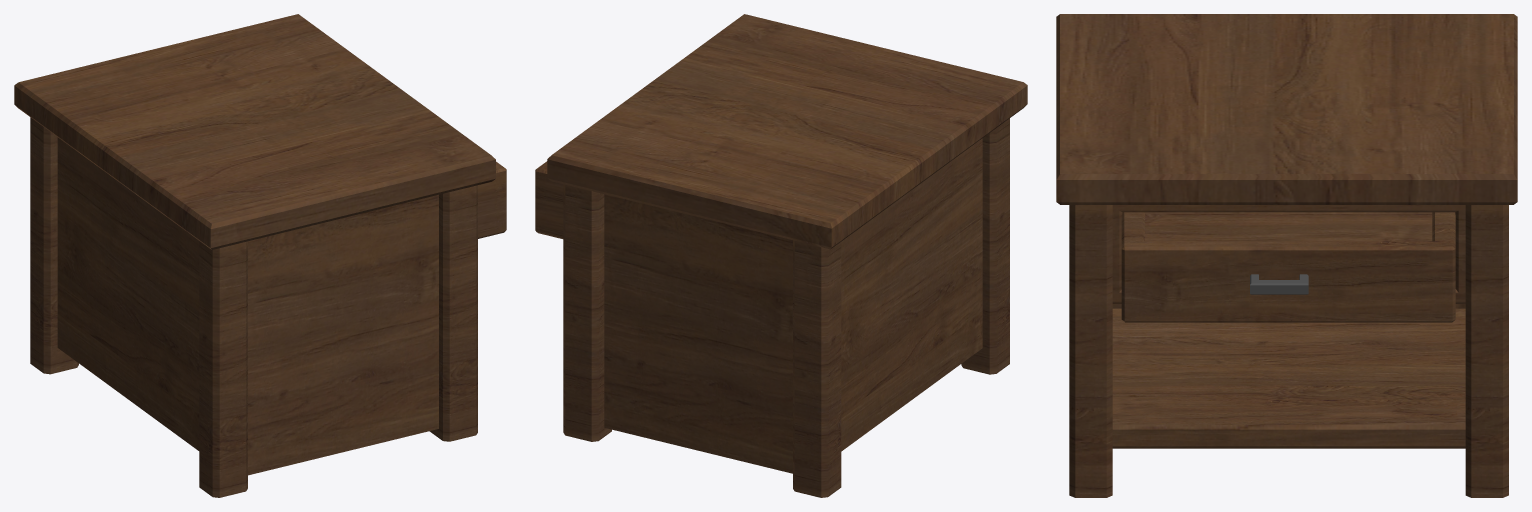
The model's file is bedside_Table.fbx.
3 renders of one model, left to right at view 1: azimuth 30°, elevation 25°; view 2: azimuth 150°, elevation 25°; view 3: azimuth 270°, elevation 25°, orthographic. The views are drawn at different scales.
Visible parts, largest first — view 1: bedside_table; view 2: bedside_table; view 3: bedside_table.
Part boxes in pixels (box(x1,y1,x2,y2)): bedside_table: box(14, 14, 506, 497); bedside_table: box(535, 14, 1027, 497); bedside_table: box(1056, 14, 1517, 497).
Size of the model in its own units: 61.45 by 48.1 by 61.27.
